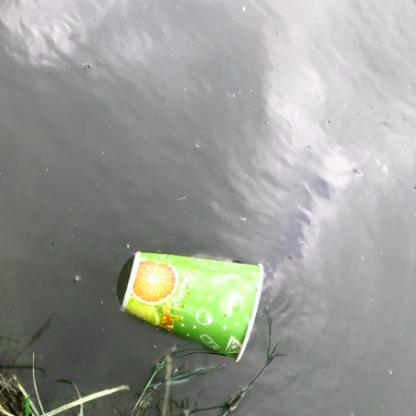Plastic: (115, 249, 270, 365)
